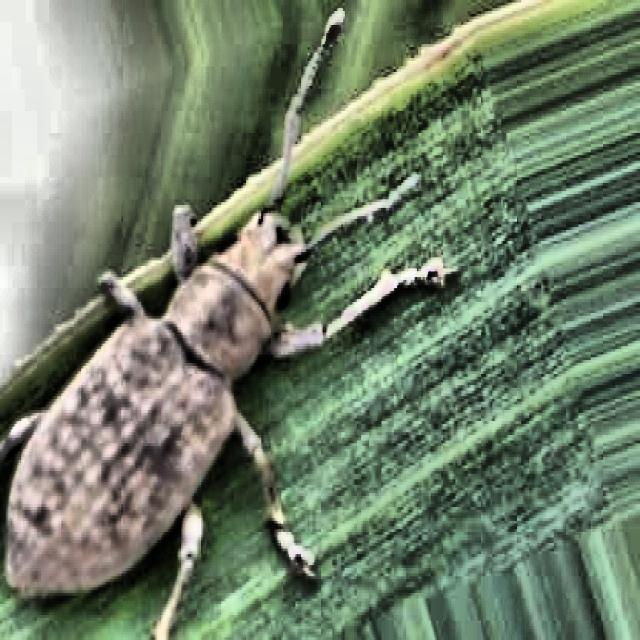Stink bug: (14, 96, 381, 555)
